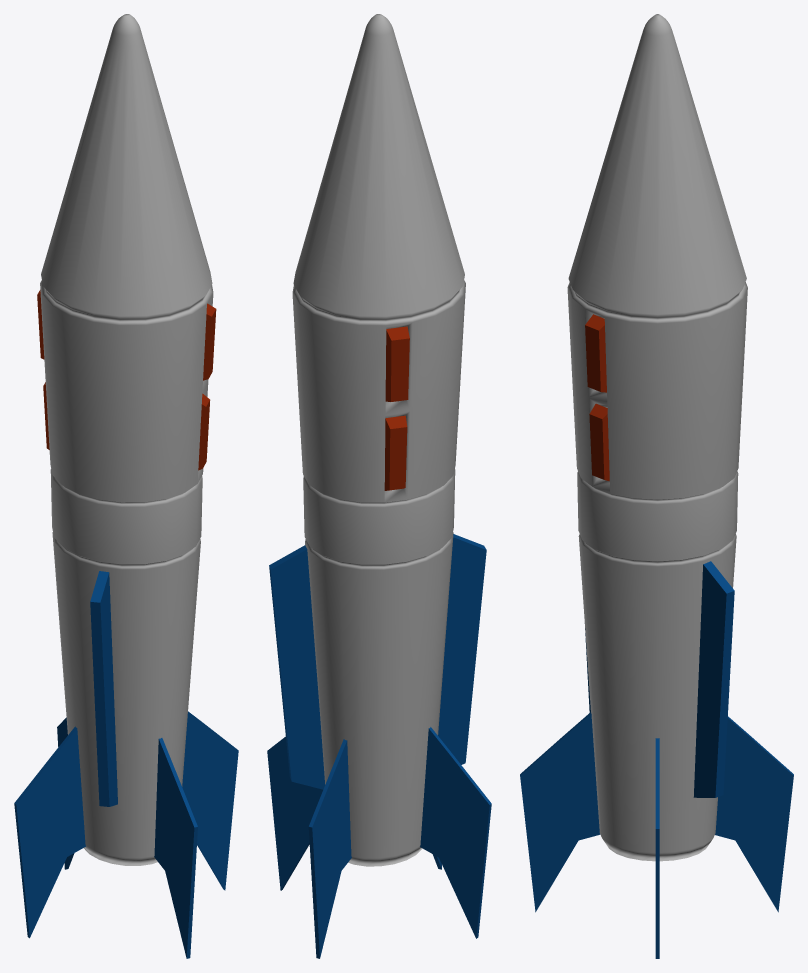
Rendered from missle fixed.fbx.
The picture shows the model from 3 angles, left to right: view 1: azimuth 30°, elevation 25°; view 2: azimuth 150°, elevation 25°; view 3: azimuth 270°, elevation 25°; orthographic projection.
Parts seen in each view (by area): view 1: polySurface1, pCube7, pCube6, pCube4, pCube5, polySurface5, polySurface3; view 2: polySurface1, pCube9, pCube7, pCube5, pCube8, pCube6, polySurface4, polySurface2; view 3: polySurface1, pCube4, pCube8, pCube9, polySurface5, polySurface3, pCube6.
Part boxes in pixels (x1,y1,x2,y2): polySurface1: [40, 14, 213, 865]; pCube7: [14, 726, 85, 938]; pCube6: [182, 711, 238, 890]; pCube4: [154, 738, 197, 958]; pCube5: [90, 571, 117, 806]; polySurface5: [203, 303, 216, 380]; polySurface3: [198, 393, 210, 470]; polySurface1: [292, 14, 465, 866]; pCube9: [269, 545, 324, 789]; pCube7: [420, 727, 491, 938]; pCube5: [438, 534, 486, 764]; pCube8: [308, 739, 351, 958]; pCube6: [267, 736, 322, 890]; polySurface4: [385, 326, 409, 401]; polySurface2: [384, 415, 407, 490]; polySurface1: [567, 14, 747, 861]; pCube4: [520, 712, 600, 912]; pCube8: [715, 716, 793, 912]; pCube9: [693, 561, 734, 797]; polySurface5: [585, 314, 606, 392]; polySurface3: [589, 403, 609, 481]; pCube6: [655, 738, 659, 958].
Bounding box in the file's own units: 17.56 × 67.79 × 18.78.
